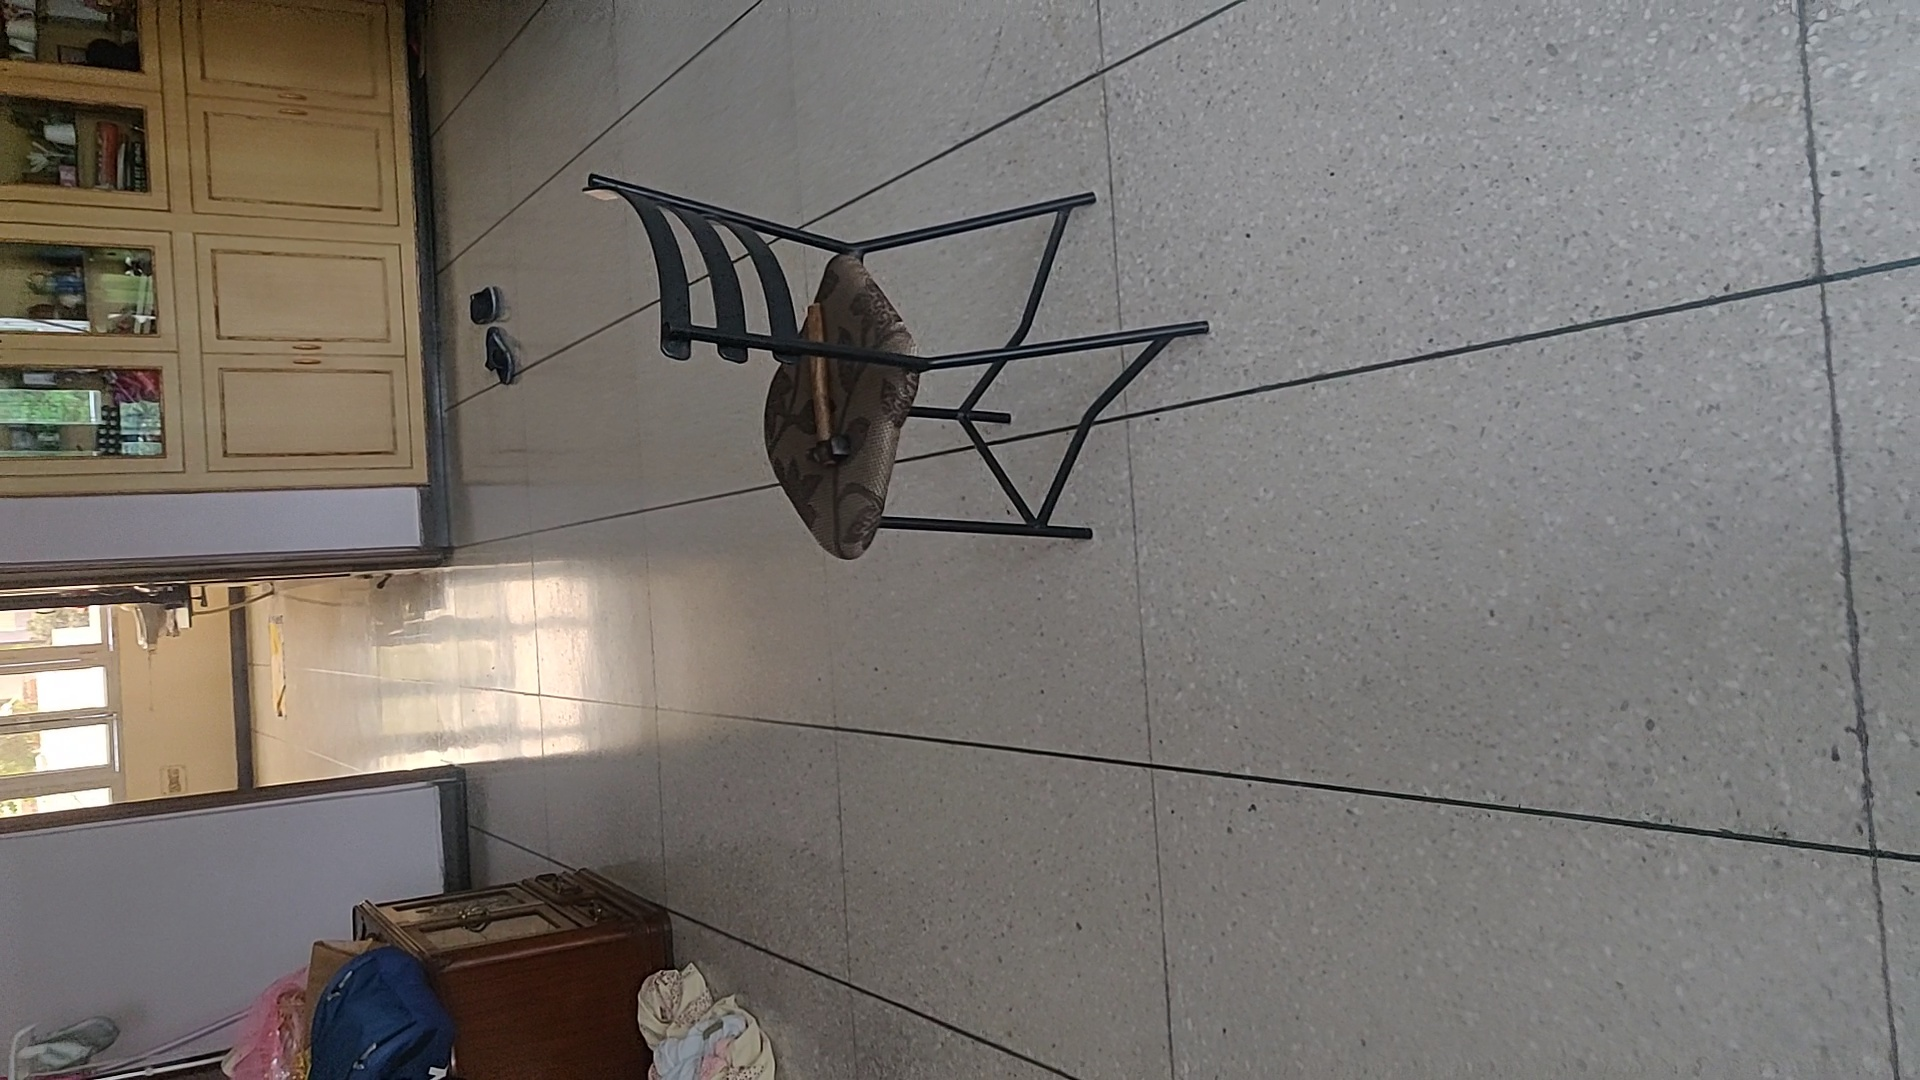hammer: (803, 301, 856, 469)
